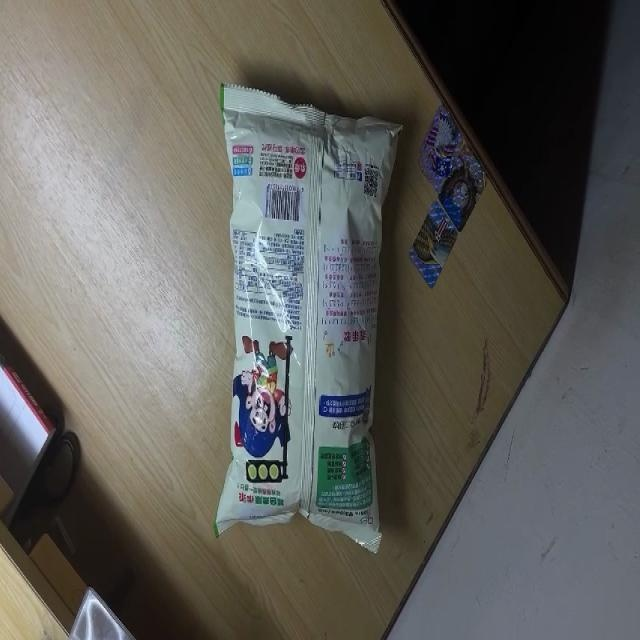Good-Luck: (218, 80, 400, 557)
